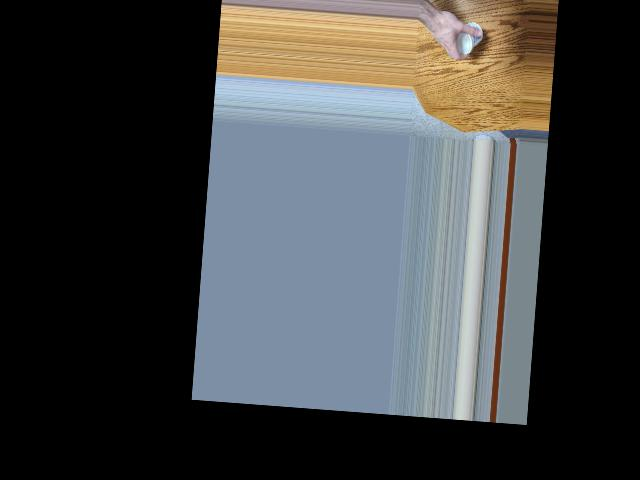cotage: (456, 19, 484, 62)
